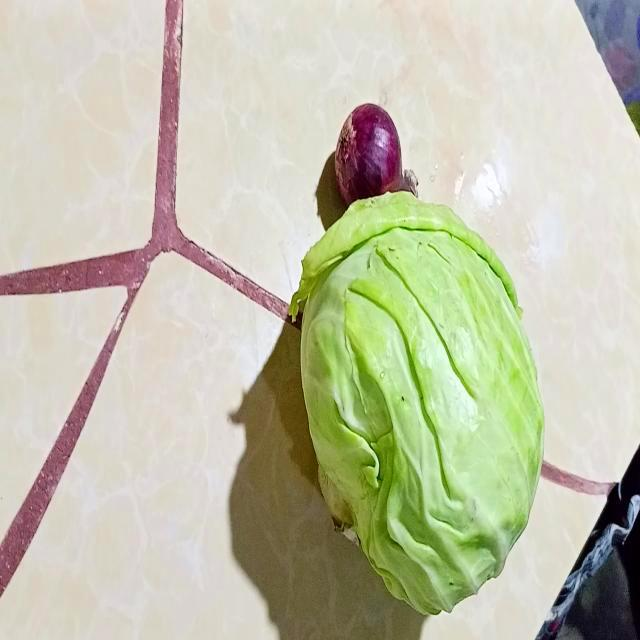cabbage: (290, 187, 551, 619)
onion: (333, 103, 419, 204)
